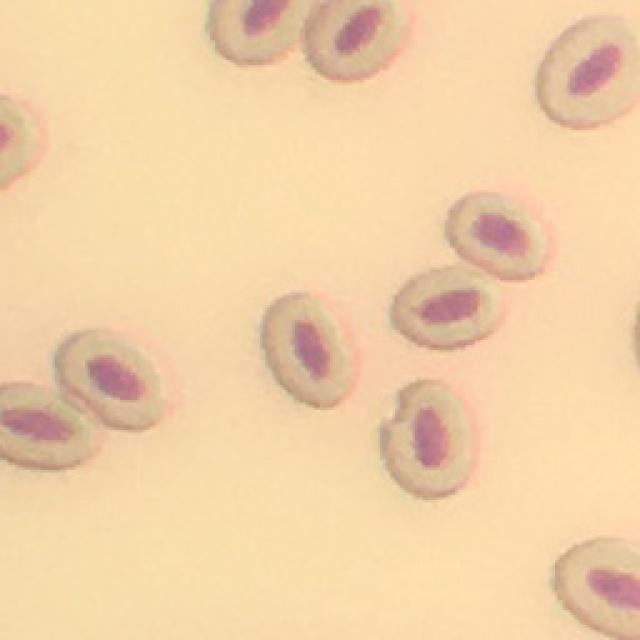RBC: (539, 19, 640, 127), (381, 381, 472, 498), (56, 330, 162, 429), (262, 292, 351, 406), (392, 266, 499, 349), (446, 192, 548, 279), (0, 382, 99, 469), (555, 539, 640, 640), (304, 0, 405, 79), (210, 0, 309, 64), (0, 96, 38, 187)
